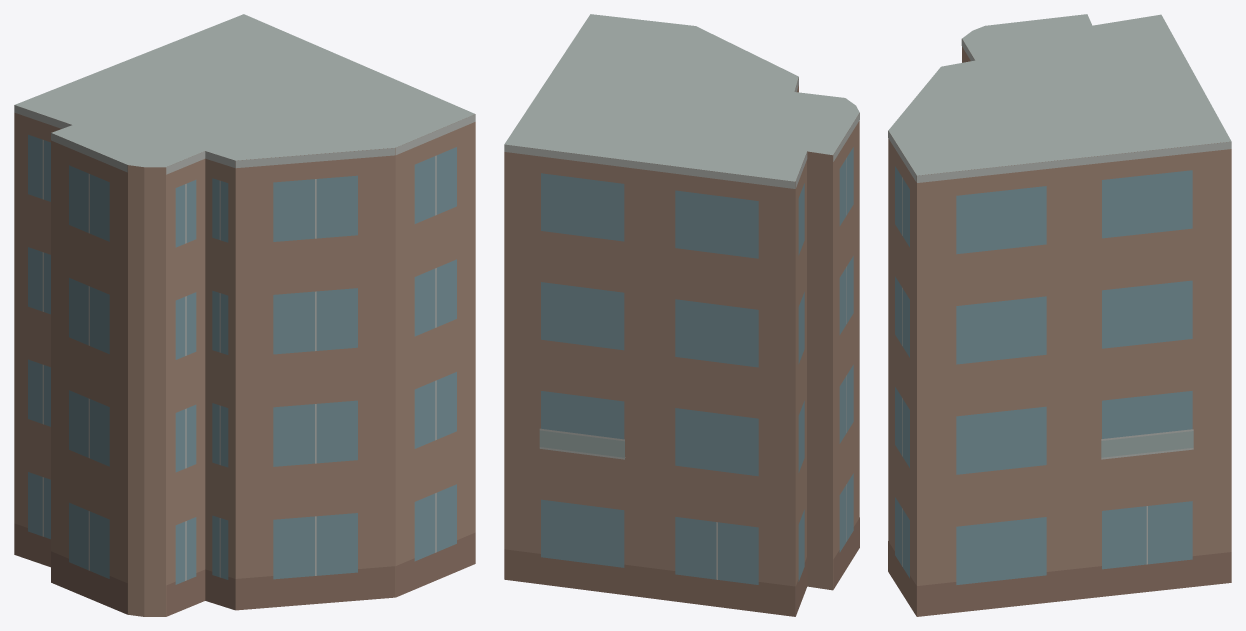
The model's file is survey-upis-32733886.glb.
The picture shows the model from 3 angles, left to right: view 1: azimuth 30°, elevation 25°; view 2: azimuth 150°, elevation 25°; view 3: azimuth 270°, elevation 25°; orthographic projection. The views are drawn at different scales.
Visible parts, largest first — view 1: survey-upis-32733886.tmp; view 2: survey-upis-32733886.tmp; view 3: survey-upis-32733886.tmp.
Part boxes in pixels (x1,y1,x2,y2): survey-upis-32733886.tmp: (14, 14, 475, 616); survey-upis-32733886.tmp: (504, 14, 859, 616); survey-upis-32733886.tmp: (888, 14, 1231, 616).
Size of the model in its own units: 11.32 by 14.4 by 10.17.
